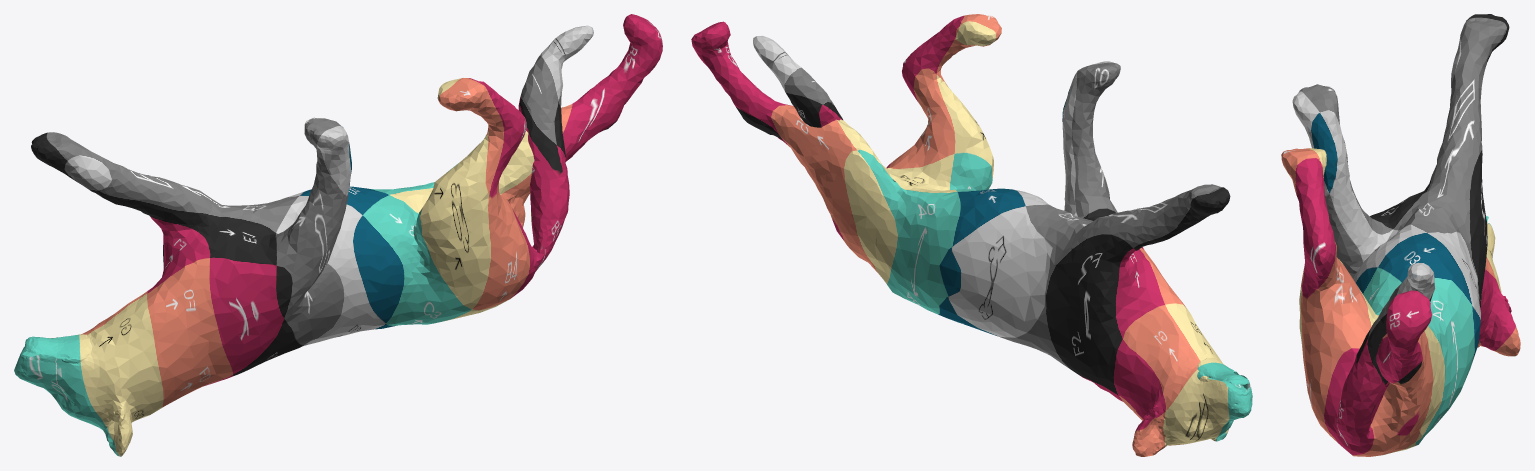
File: fox_01-dog_08.obj
3 renders of one model, left to right at view 1: azimuth 30°, elevation 25°; view 2: azimuth 150°, elevation 25°; view 3: azimuth 270°, elevation 25°, orthographic. The views are drawn at different scales.
Visible parts, largest first — view 1: fox_01-dog_08_export; view 2: fox_01-dog_08_export; view 3: fox_01-dog_08_export.
Part boxes in pixels (bbox=[...]): fox_01-dog_08_export: bbox=[14, 14, 662, 456]; fox_01-dog_08_export: bbox=[691, 14, 1252, 456]; fox_01-dog_08_export: bbox=[1281, 14, 1520, 456].
Bounding box in the file's own units: 1.17 × 0.611 × 0.3694.
